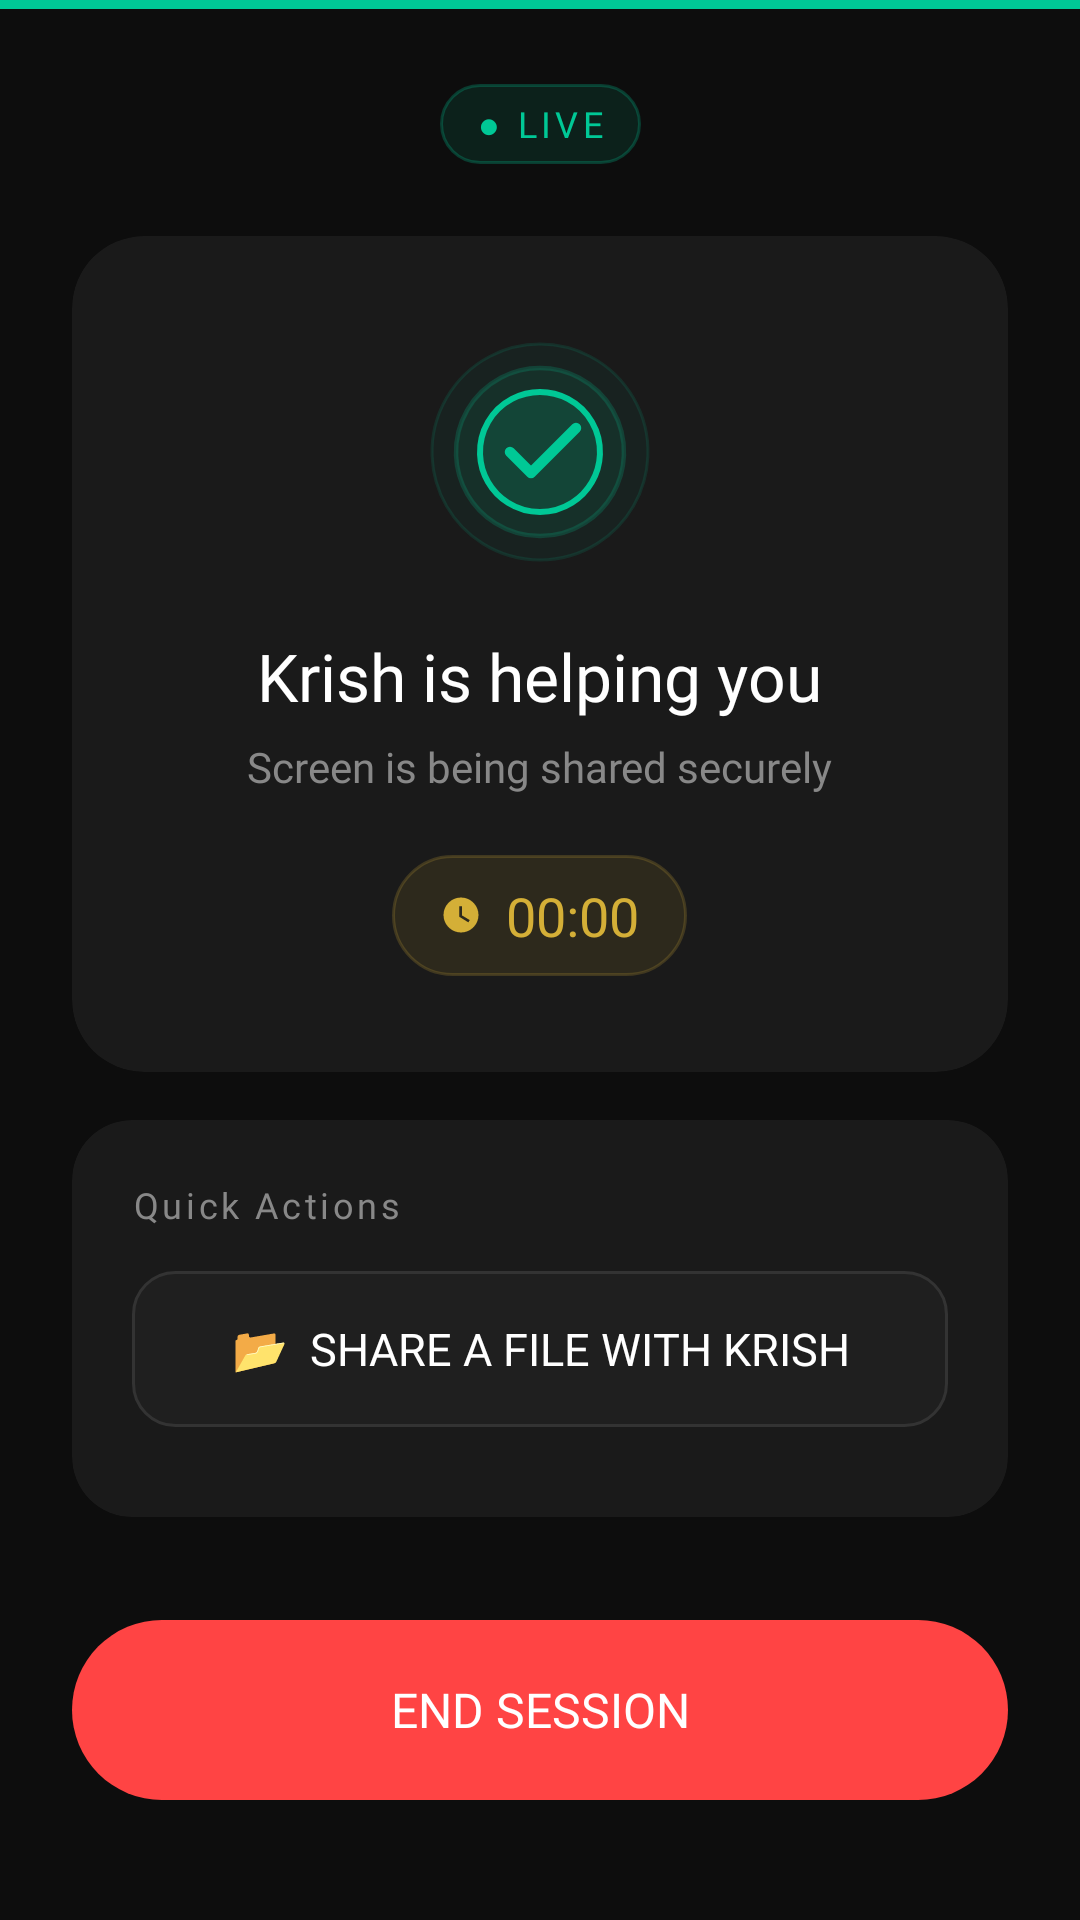

Screen size 1080x1920. Icon name, then its center in pixels as (x,y):
Connected: (540,452)
Duration: (461,915)
